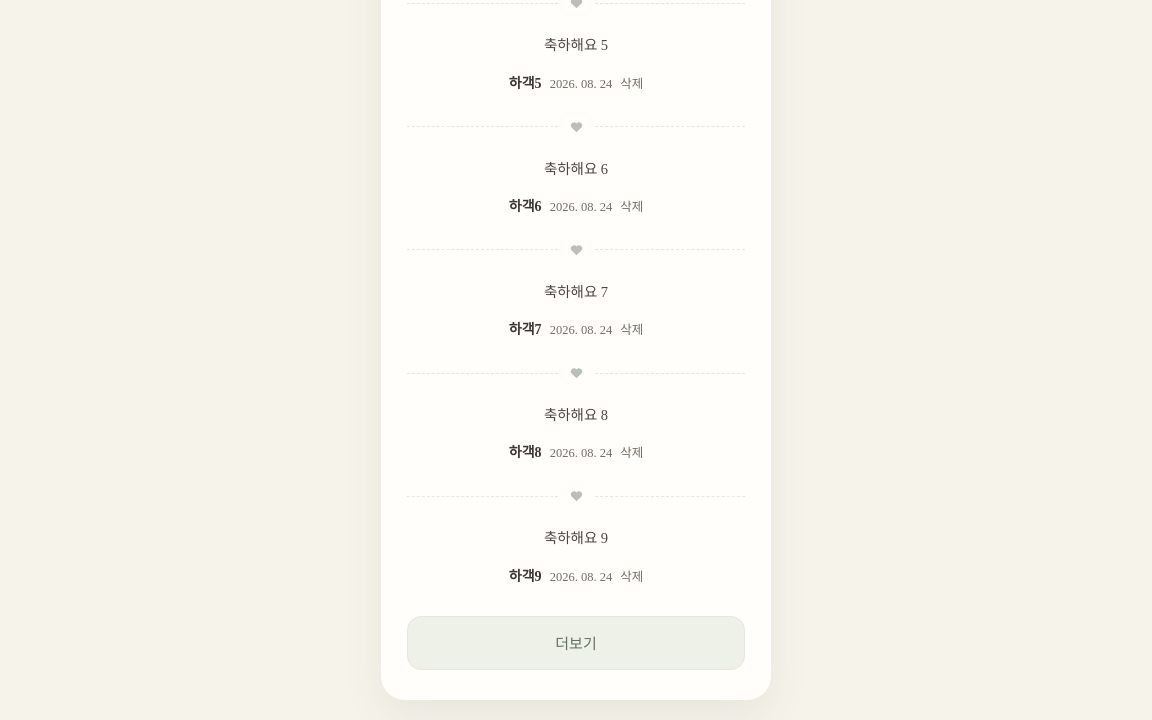
GuestbookAll 더보기 › 더 불러오지 못하면 알리고 읽던 목록은 그대로 둔다
The width and height of the screenshot is (1152, 720).
(page scrolled)
Click the button "더보기" at (576, 643), box [407, 616, 745, 670]
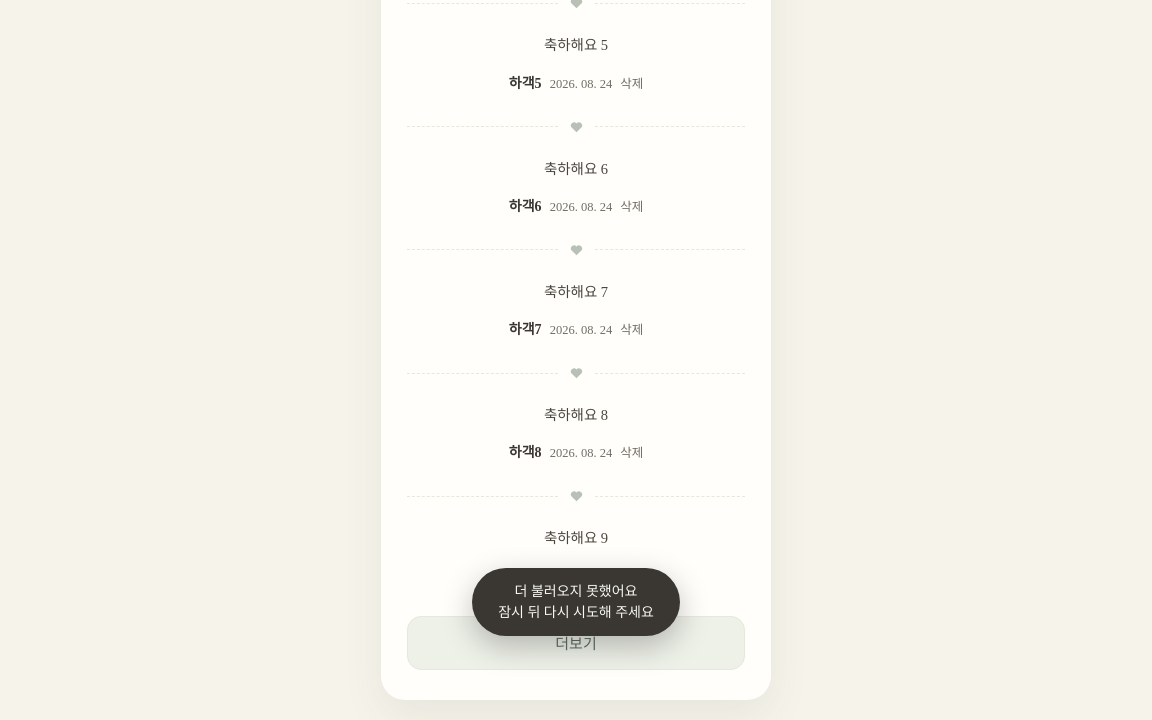
Expected: the text "더 불러오지 못했어요 잠시 뒤 다시 시도해 주세요" is shown, [472, 568, 680, 636]
